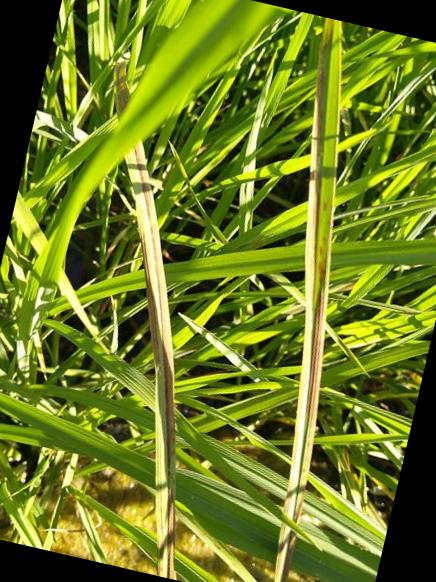Leaf Streak: (271, 17, 343, 582), (124, 143, 175, 579), (114, 50, 131, 116)
